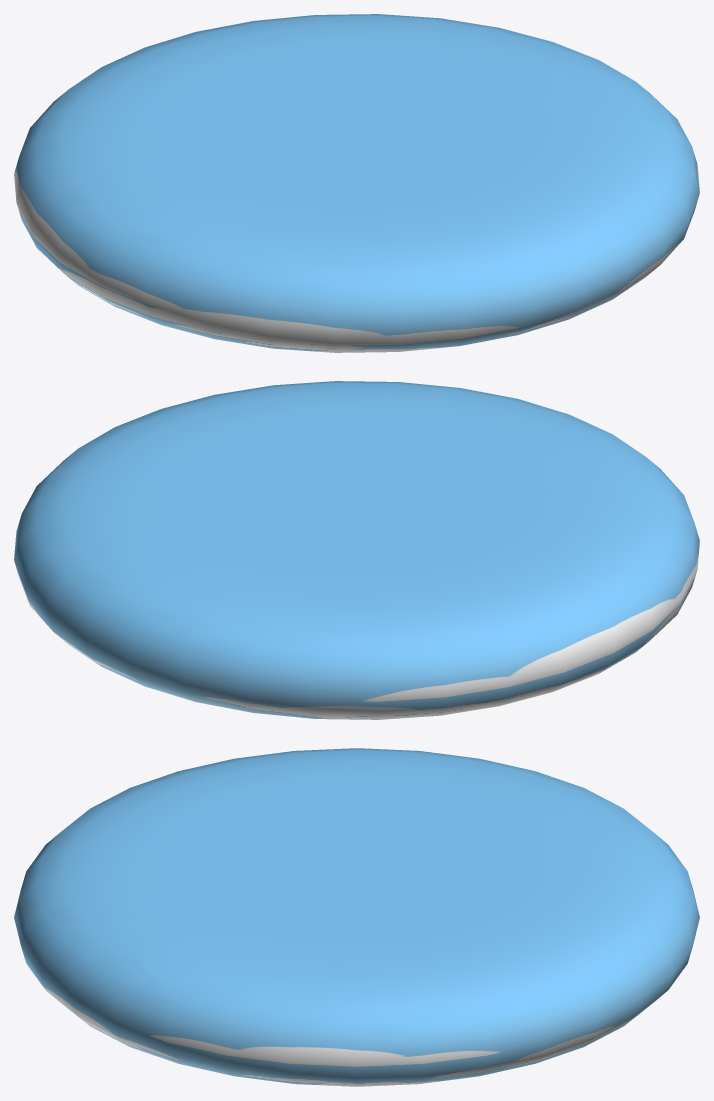
Rendered from Sky-dome.fbx.
3 renders of one model, top to bottom at view 1: azimuth 30°, elevation 25°; view 2: azimuth 150°, elevation 25°; view 3: azimuth 270°, elevation 25°, orthographic.
Visible parts, largest first — view 1: taivas; view 2: taivas; view 3: taivas.
Boxes of the visible parts, x1,y1,x2,y2 form: taivas: [14, 14, 699, 352]; taivas: [14, 381, 699, 719]; taivas: [14, 748, 699, 1086].
Bounding box in the file's own units: 2683 × 422 × 2683.
1 material, 1 textured.
